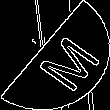M_NW: (17, 21, 93, 89)
